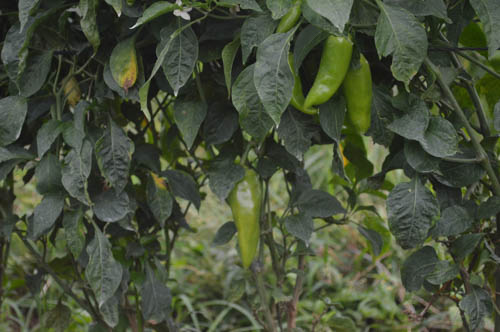ChiliPepper: (305, 36, 352, 113), (232, 171, 260, 274), (347, 57, 375, 134), (281, 56, 315, 114)
